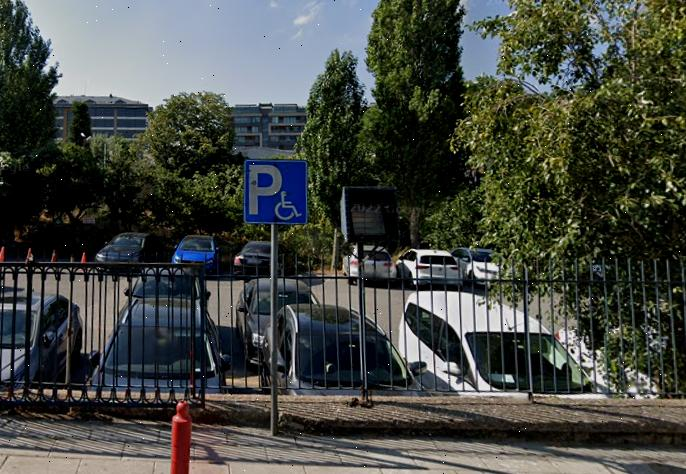disabledpark: (246, 161, 305, 217)
